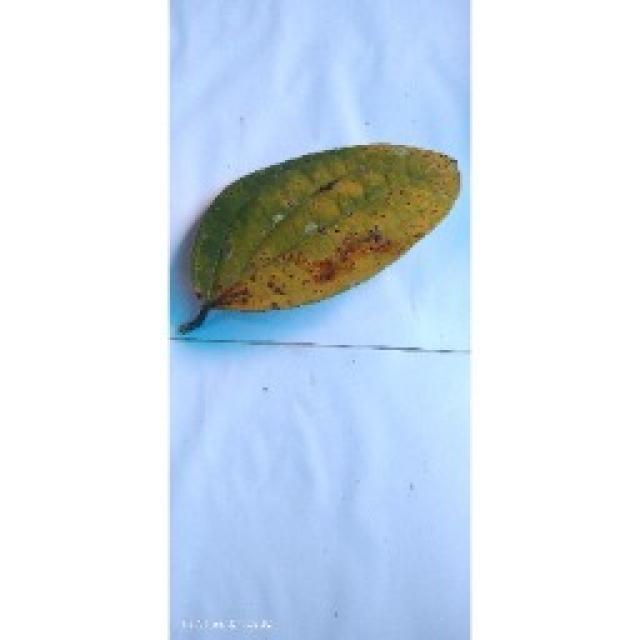slow-decline: (168, 135, 460, 337)
